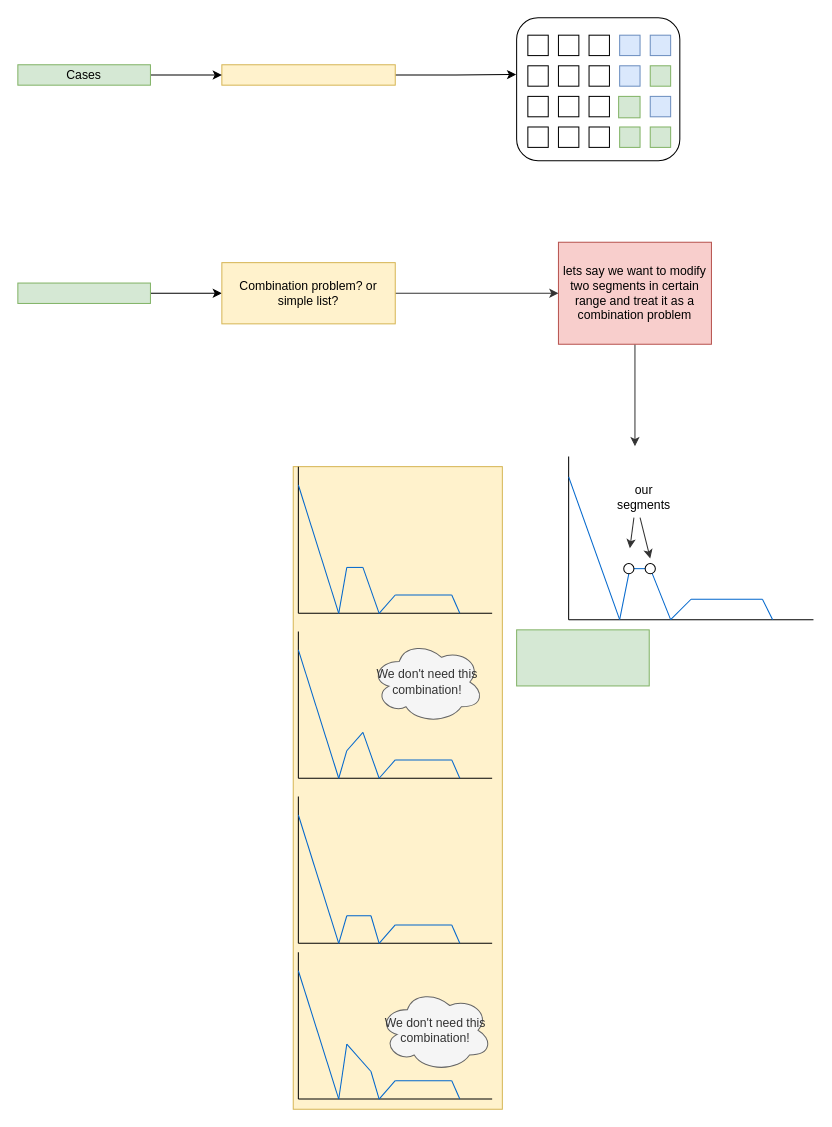
Image size: 832x1127. Some labels were removed from this diagram. Here are the shapes that lost their labels. From the top down, the box of each, then its label:
(221, 64, 395, 85): Combination problem
(17, 282, 150, 303): Heat treatment
(516, 629, 649, 686): Example if we treat it as a combination problem
